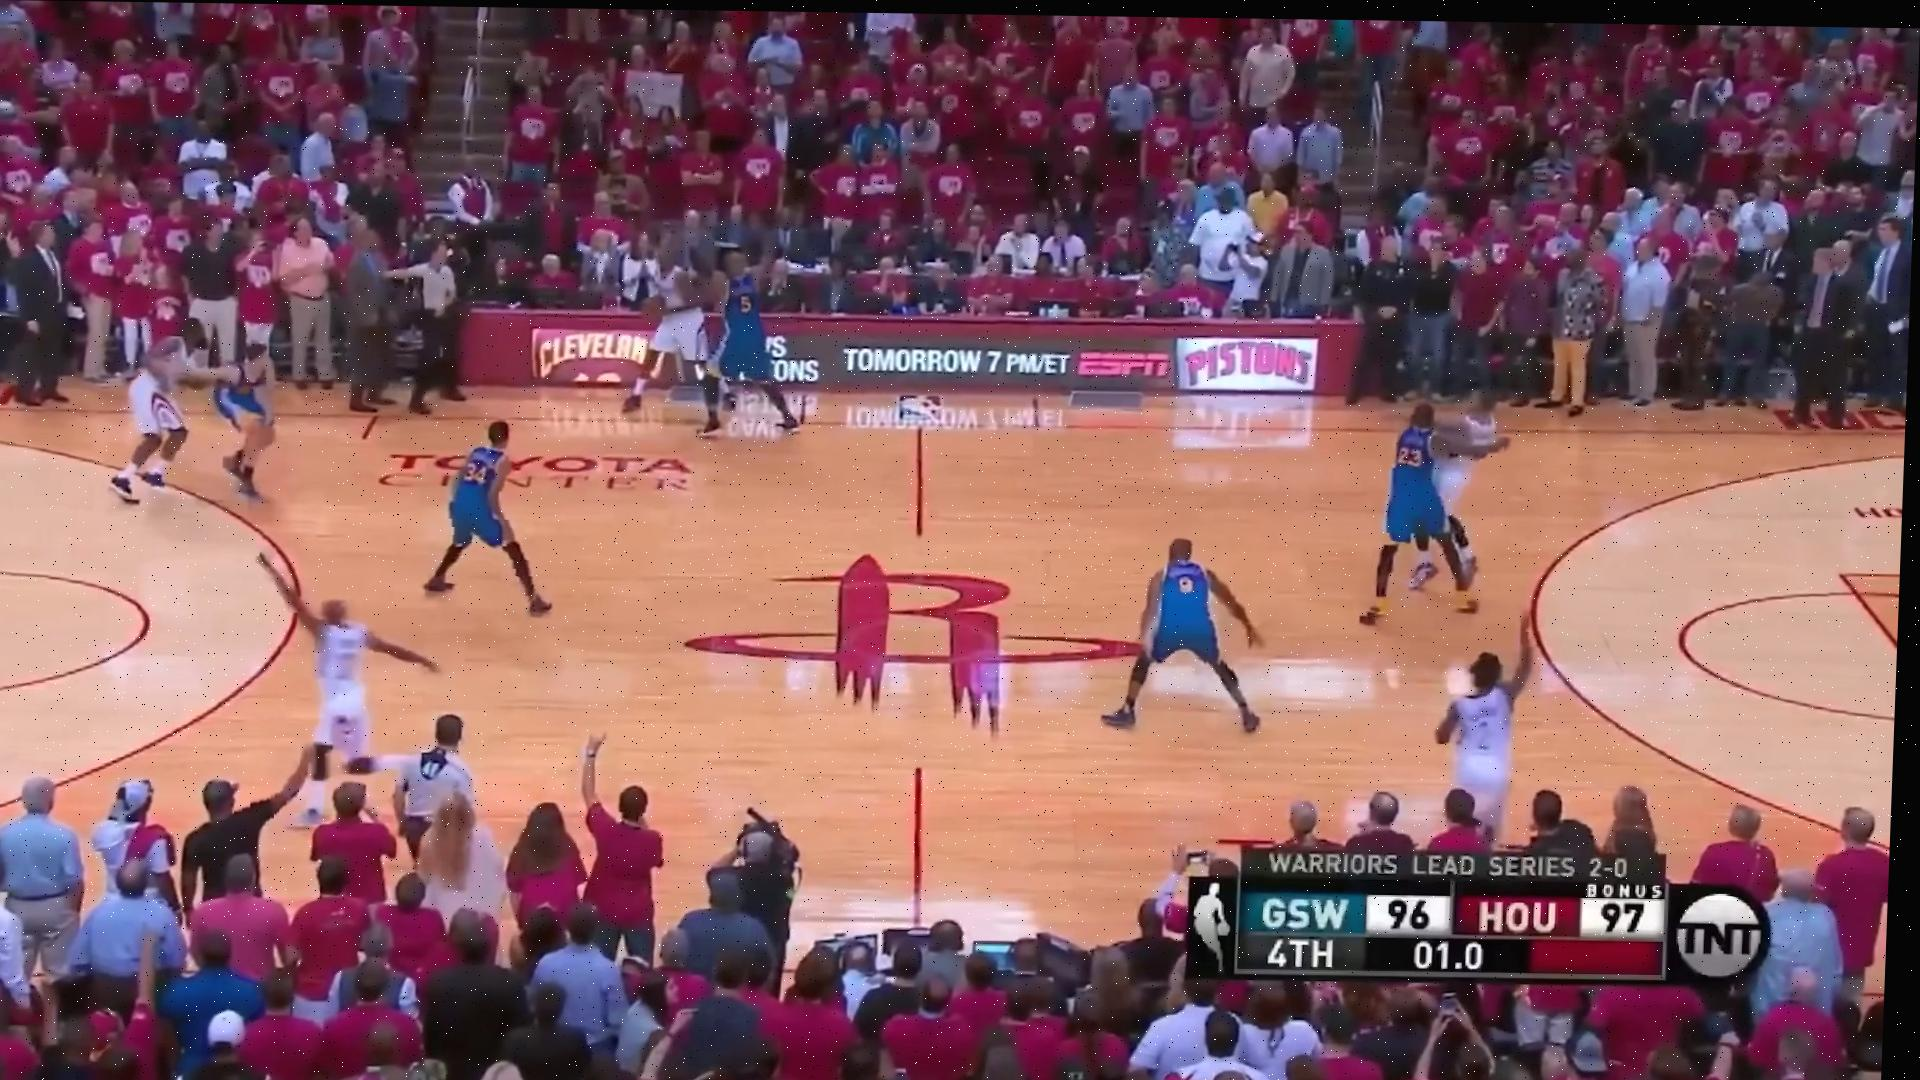foul: (1367, 375, 1507, 657)
